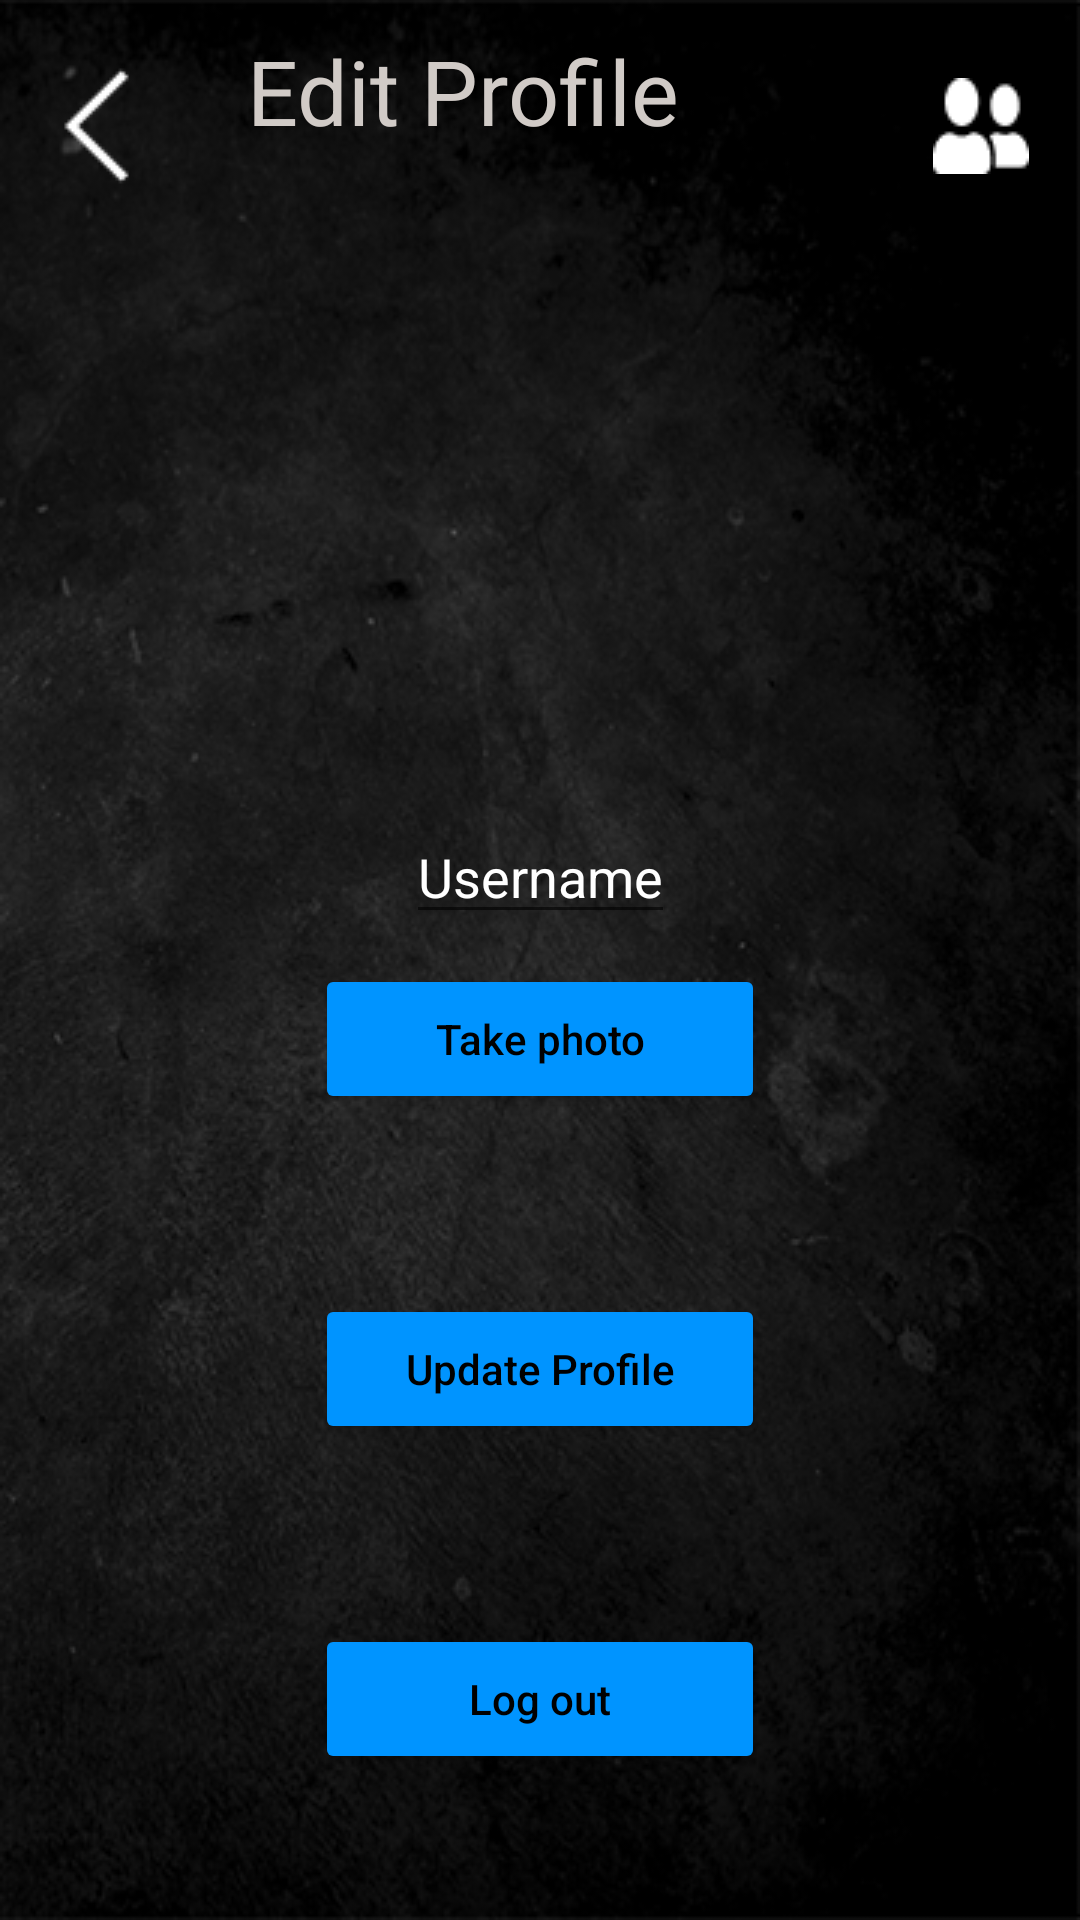

Icon click points for this 1080×1920 phone screenshot, format (x=x, y=y):
backbutton: (x=96, y=125)
friends: (x=981, y=126)
